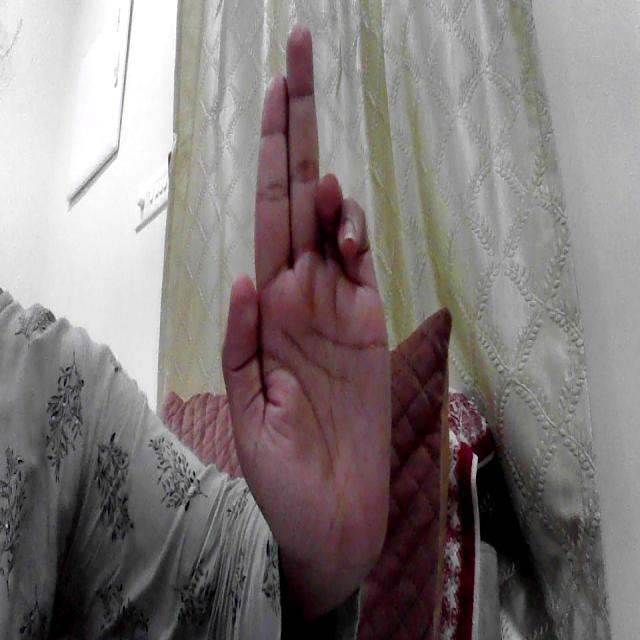Ardhapataka: (223, 8, 418, 604)
